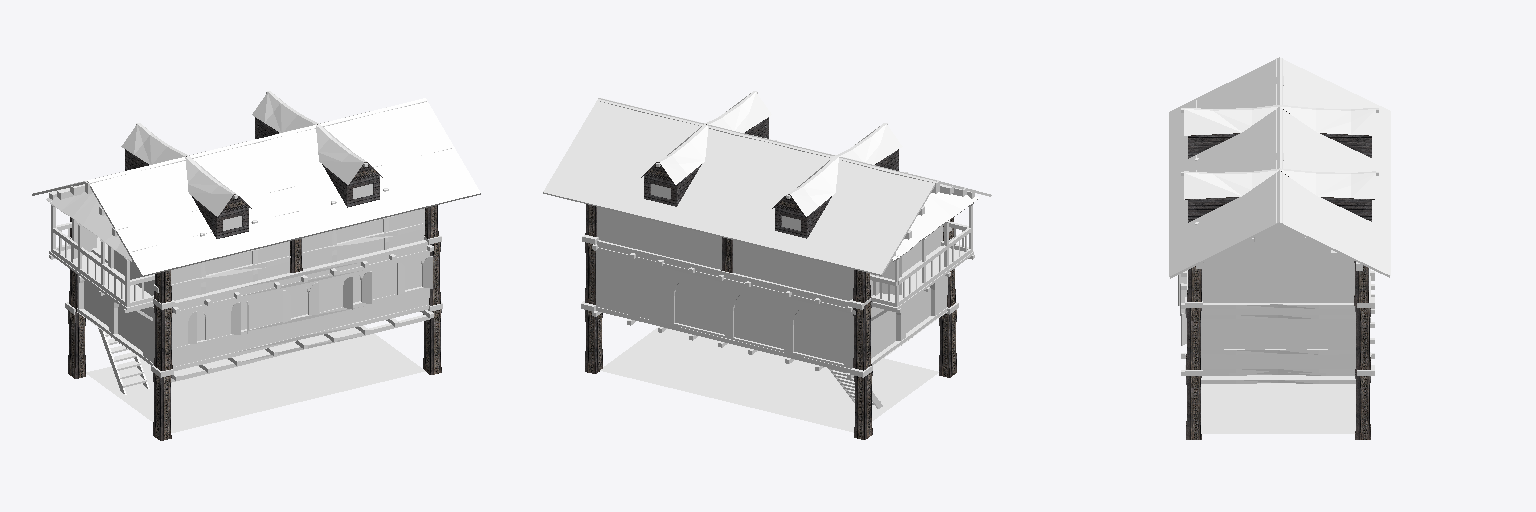
The picture shows the model from 3 angles: view 1: azimuth 30°, elevation 25°; view 2: azimuth 150°, elevation 25°; view 3: azimuth 270°, elevation 25°; orthographic projection.
Visible parts, largest first — view 1: house; view 2: house; view 3: house.
Part boxes in pixels (x1,y1,x2,y2): house: (32,91,480,440); house: (543,91,991,439); house: (1169,57,1390,439).
Size of the model in its own units: 28.1 by 18.47 by 15.86.
Materials: 6 (2 with a texture image).